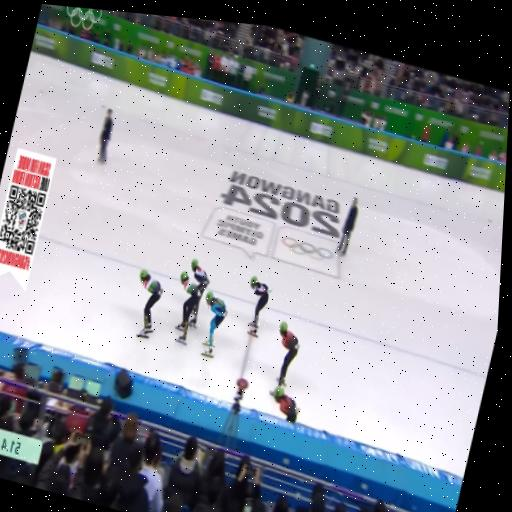Skater: (137, 270, 162, 338), (175, 271, 197, 344), (202, 291, 226, 357), (188, 259, 208, 327), (277, 322, 298, 386), (248, 276, 268, 336), (269, 386, 298, 422)
